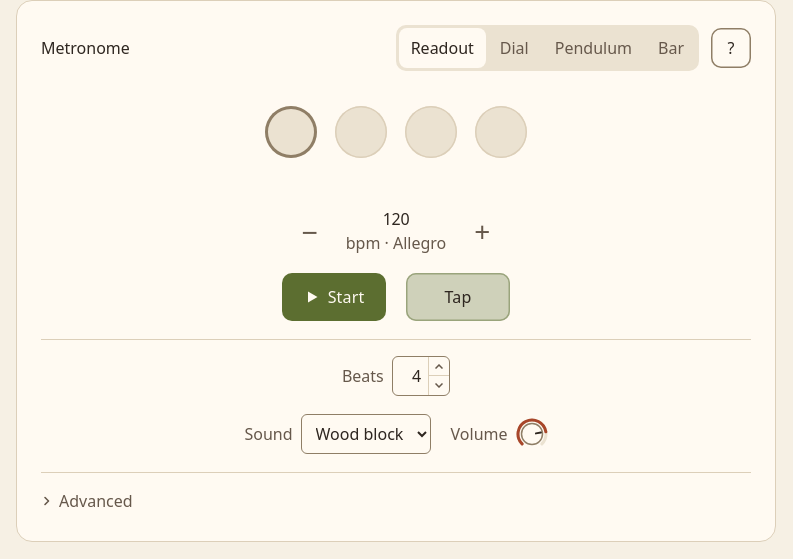
MetronomePage › a double-click on Beats puts back 4
Step 1. Replace the text in the number field named "Beats" with "12" → (412, 376), box [403,364,421,388]
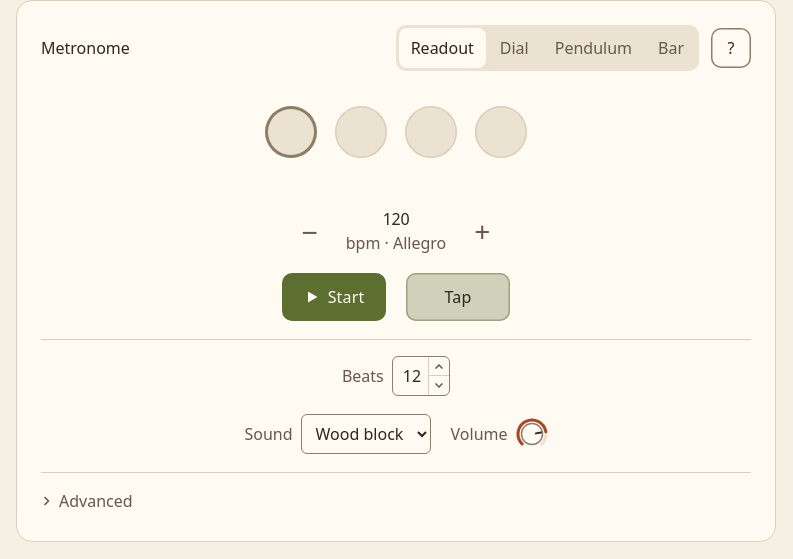
Step 2. Press Enter in the number field named "Beats", box [403,364,421,388]
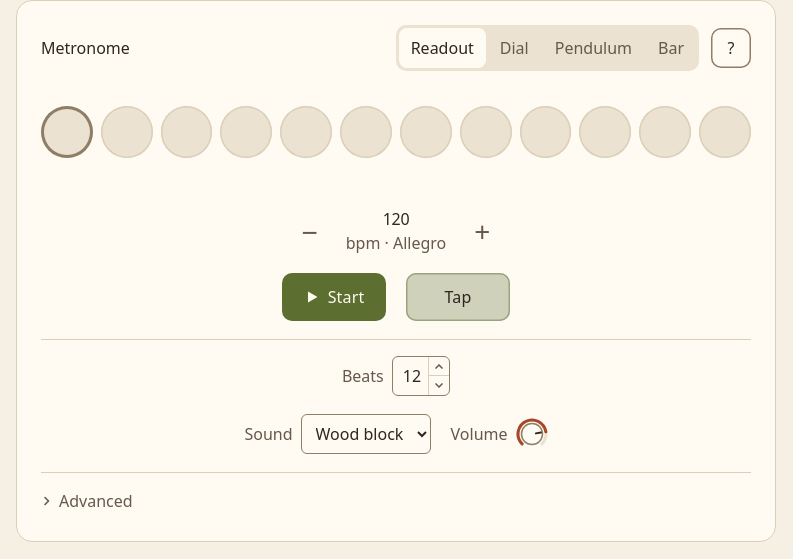
Step 3. Double-click the text "Beats" → (363, 376), box [342,364,384,388]
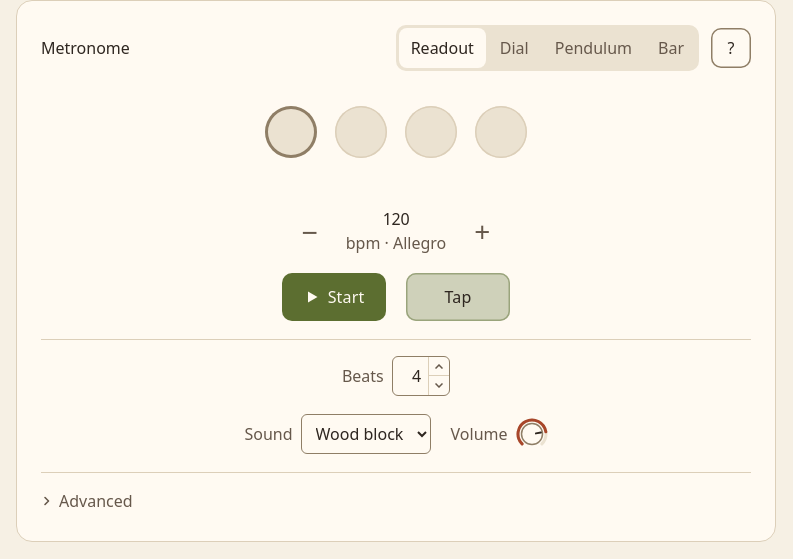
Expected: the number field named "Beats" holds "4", [403,364,421,388]
